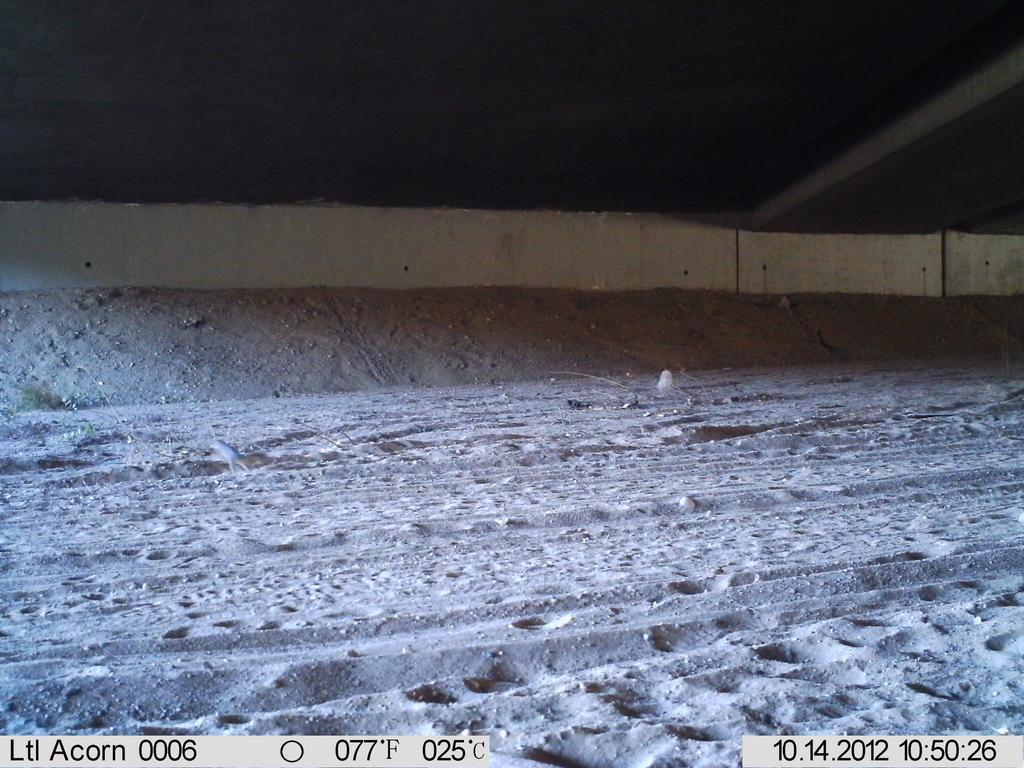squirrel: (205, 437, 271, 478)
